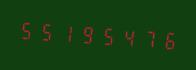five: (37, 15, 56, 47), (97, 19, 116, 51), (17, 14, 36, 45)
four: (117, 21, 136, 52)
nine: (77, 18, 96, 49)
one: (57, 17, 76, 48)
seven: (137, 22, 156, 54)
six: (157, 24, 176, 55)
